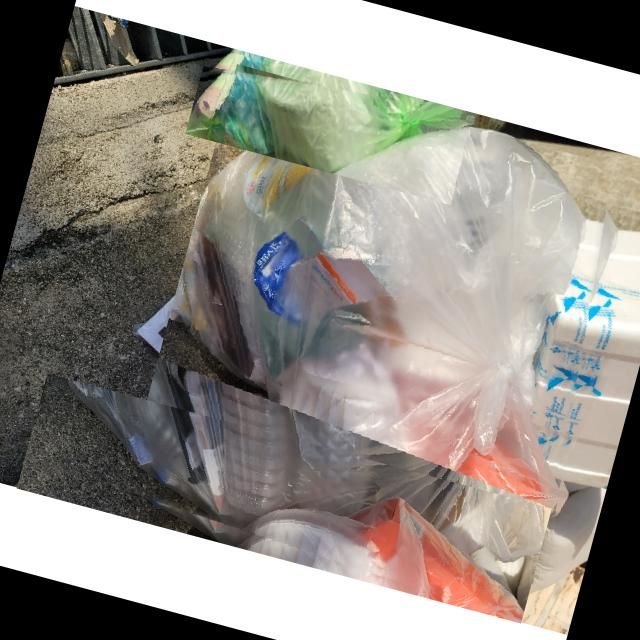general_trashbag: (185, 65, 471, 172)
other_trashbag: (169, 106, 589, 533), (63, 377, 542, 559)
